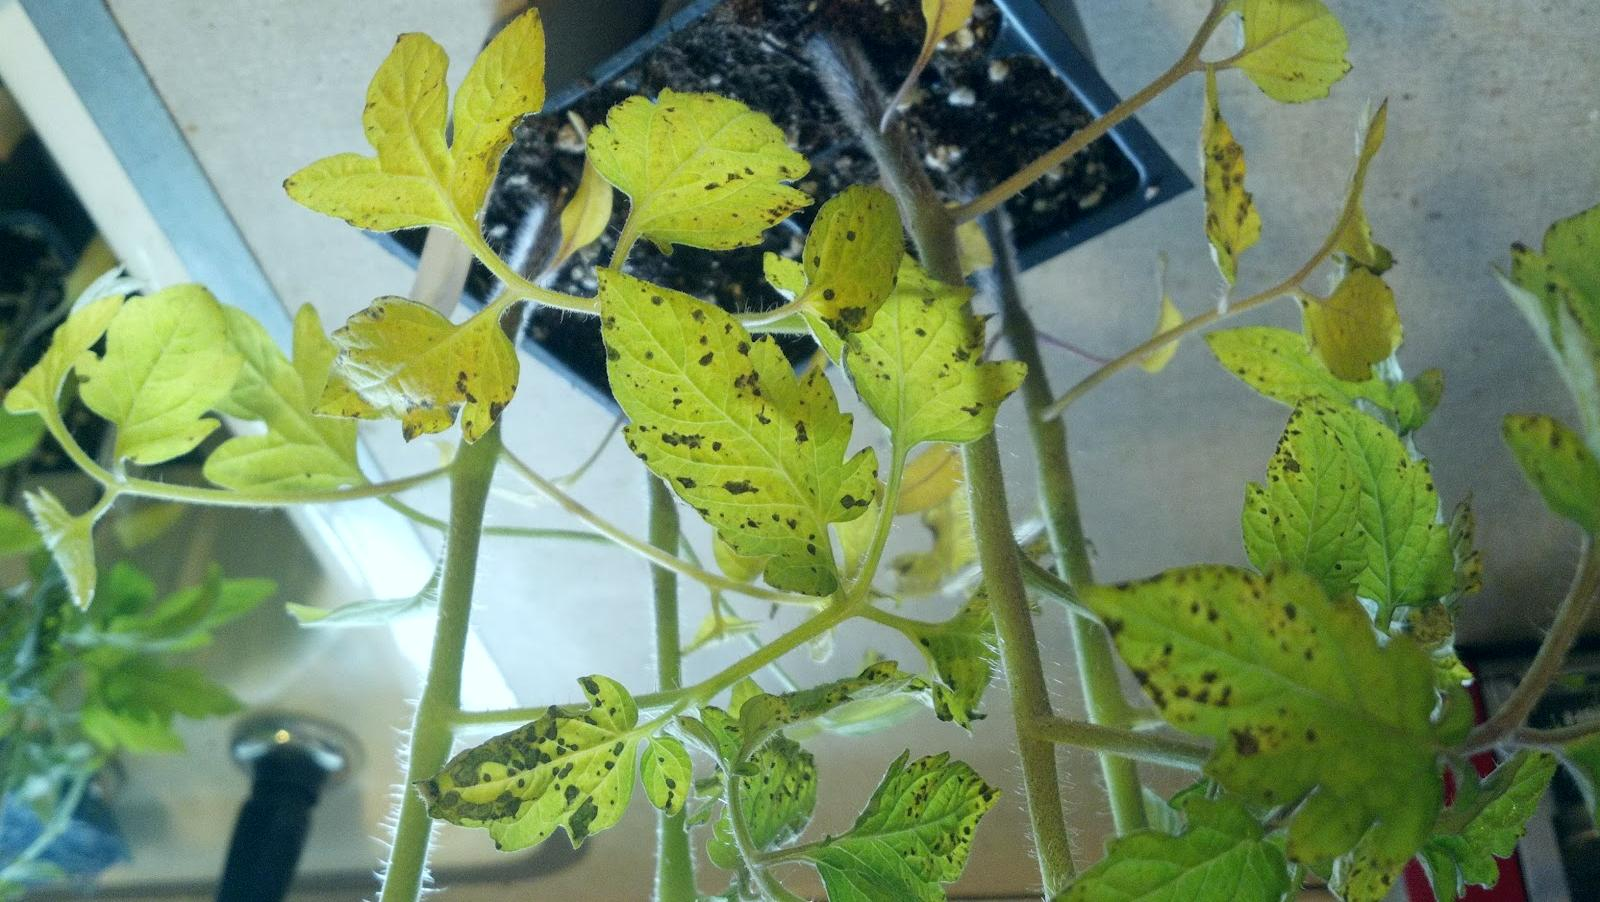Tomato Septoria leaf spot: (1069, 559, 1473, 864), (579, 247, 865, 603), (1211, 390, 1531, 632), (412, 662, 651, 868), (579, 85, 820, 274), (836, 257, 1051, 463), (786, 762, 1013, 893)
